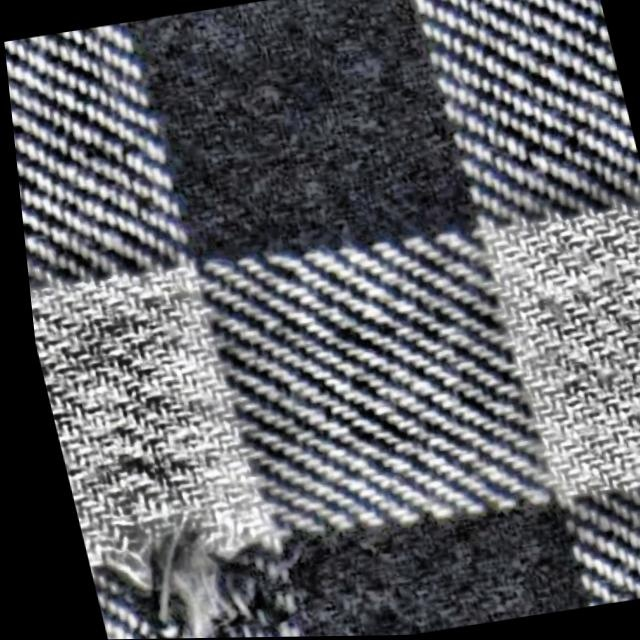Stitch: (77, 480, 317, 640)
